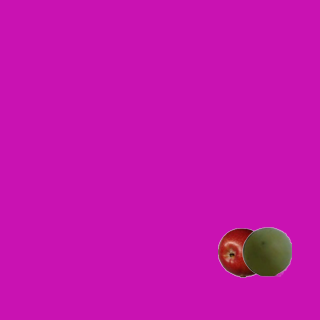Apple Braeburn: (217, 227, 267, 277)
Grape White 4: (241, 226, 291, 276)
